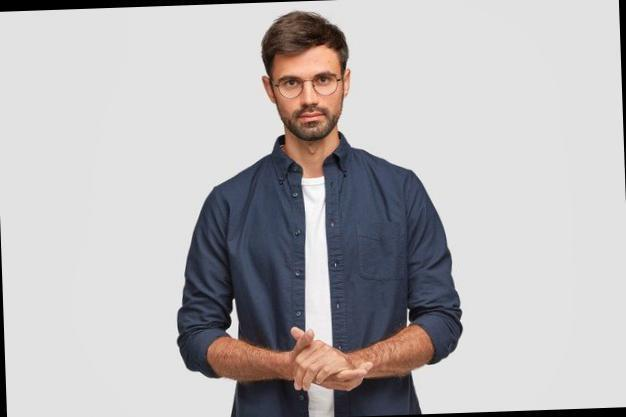Sober: (271, 52, 342, 137)
